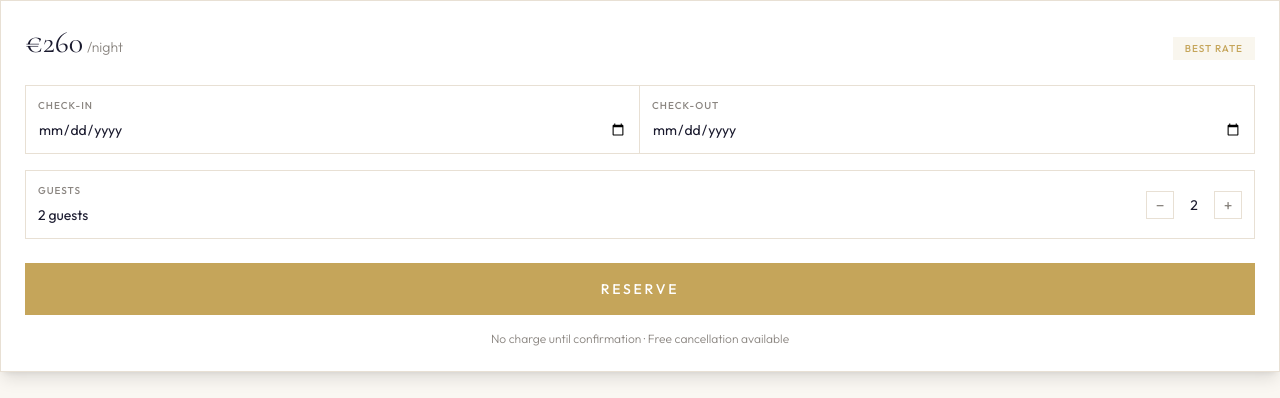
BookingWidget — guest counter › supports a higher max for Garden Residence (max 6)
Note: Click 4 times from 2 to reach 6
Click the button named "Add guest" at (1228, 204), box 1214,190 -> 1242,218
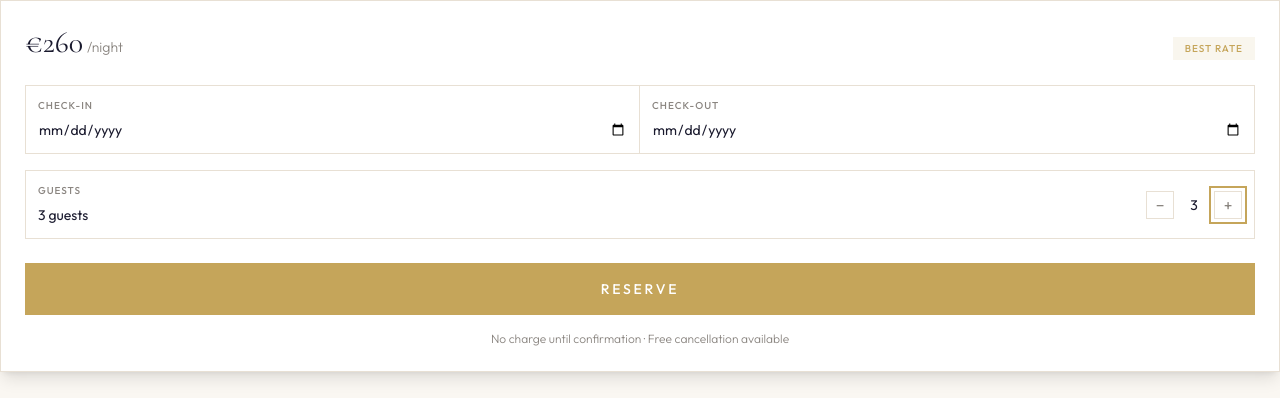
Click the button named "Add guest" at (1228, 204), box 1214,190 -> 1242,218
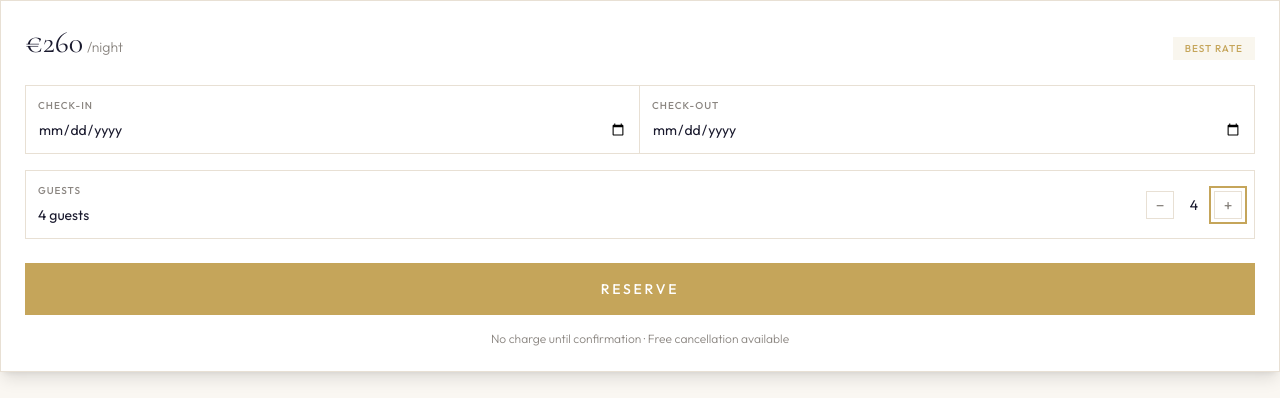
Click the button named "Add guest" at (1228, 204), box 1214,190 -> 1242,218
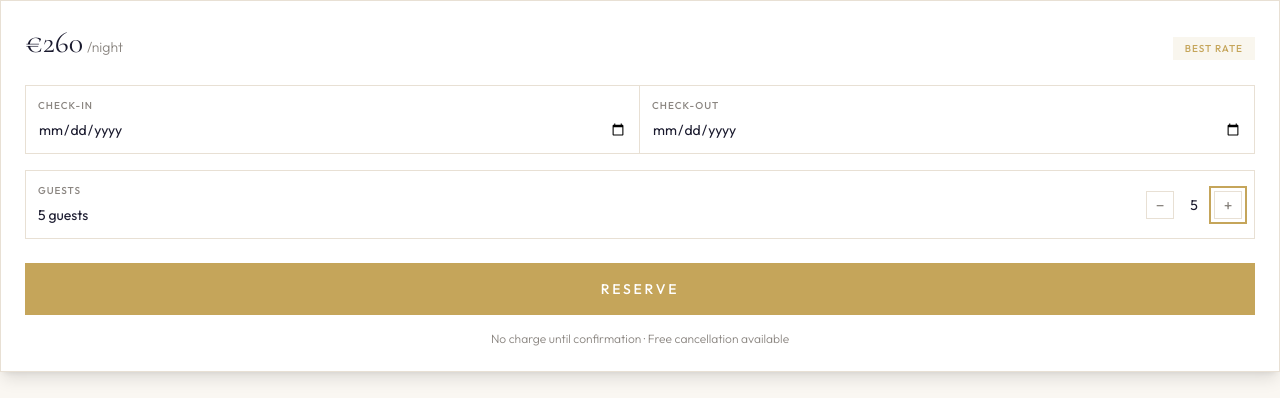
Click the button named "Add guest" at (1228, 204), box 1214,190 -> 1242,218
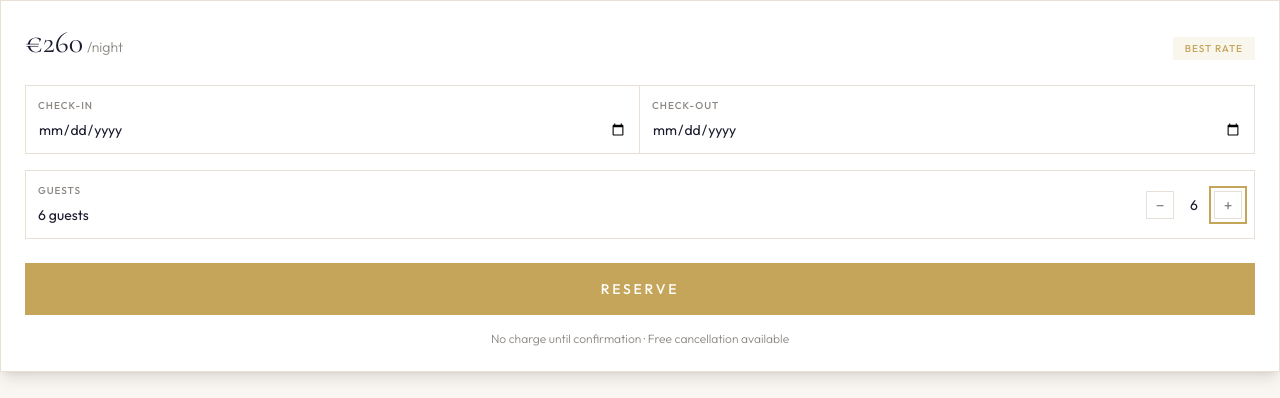
Result: the text "6 guests" is shown at 38,206 -> 89,224
